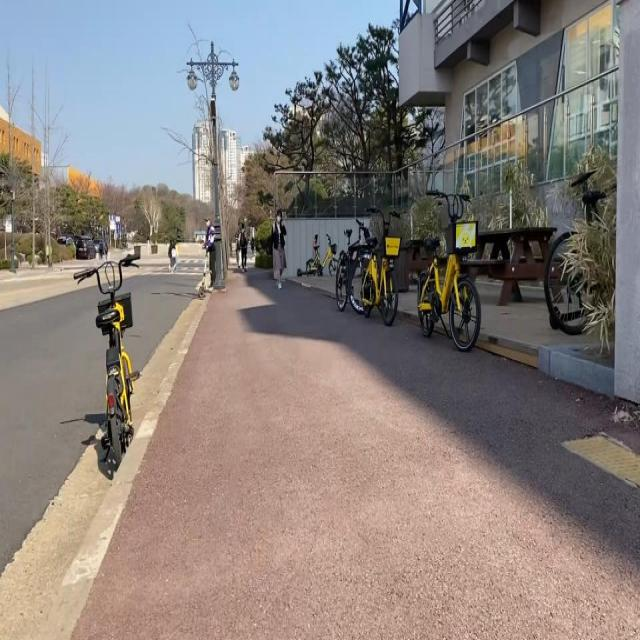sidewalk: (74, 270, 640, 638)
